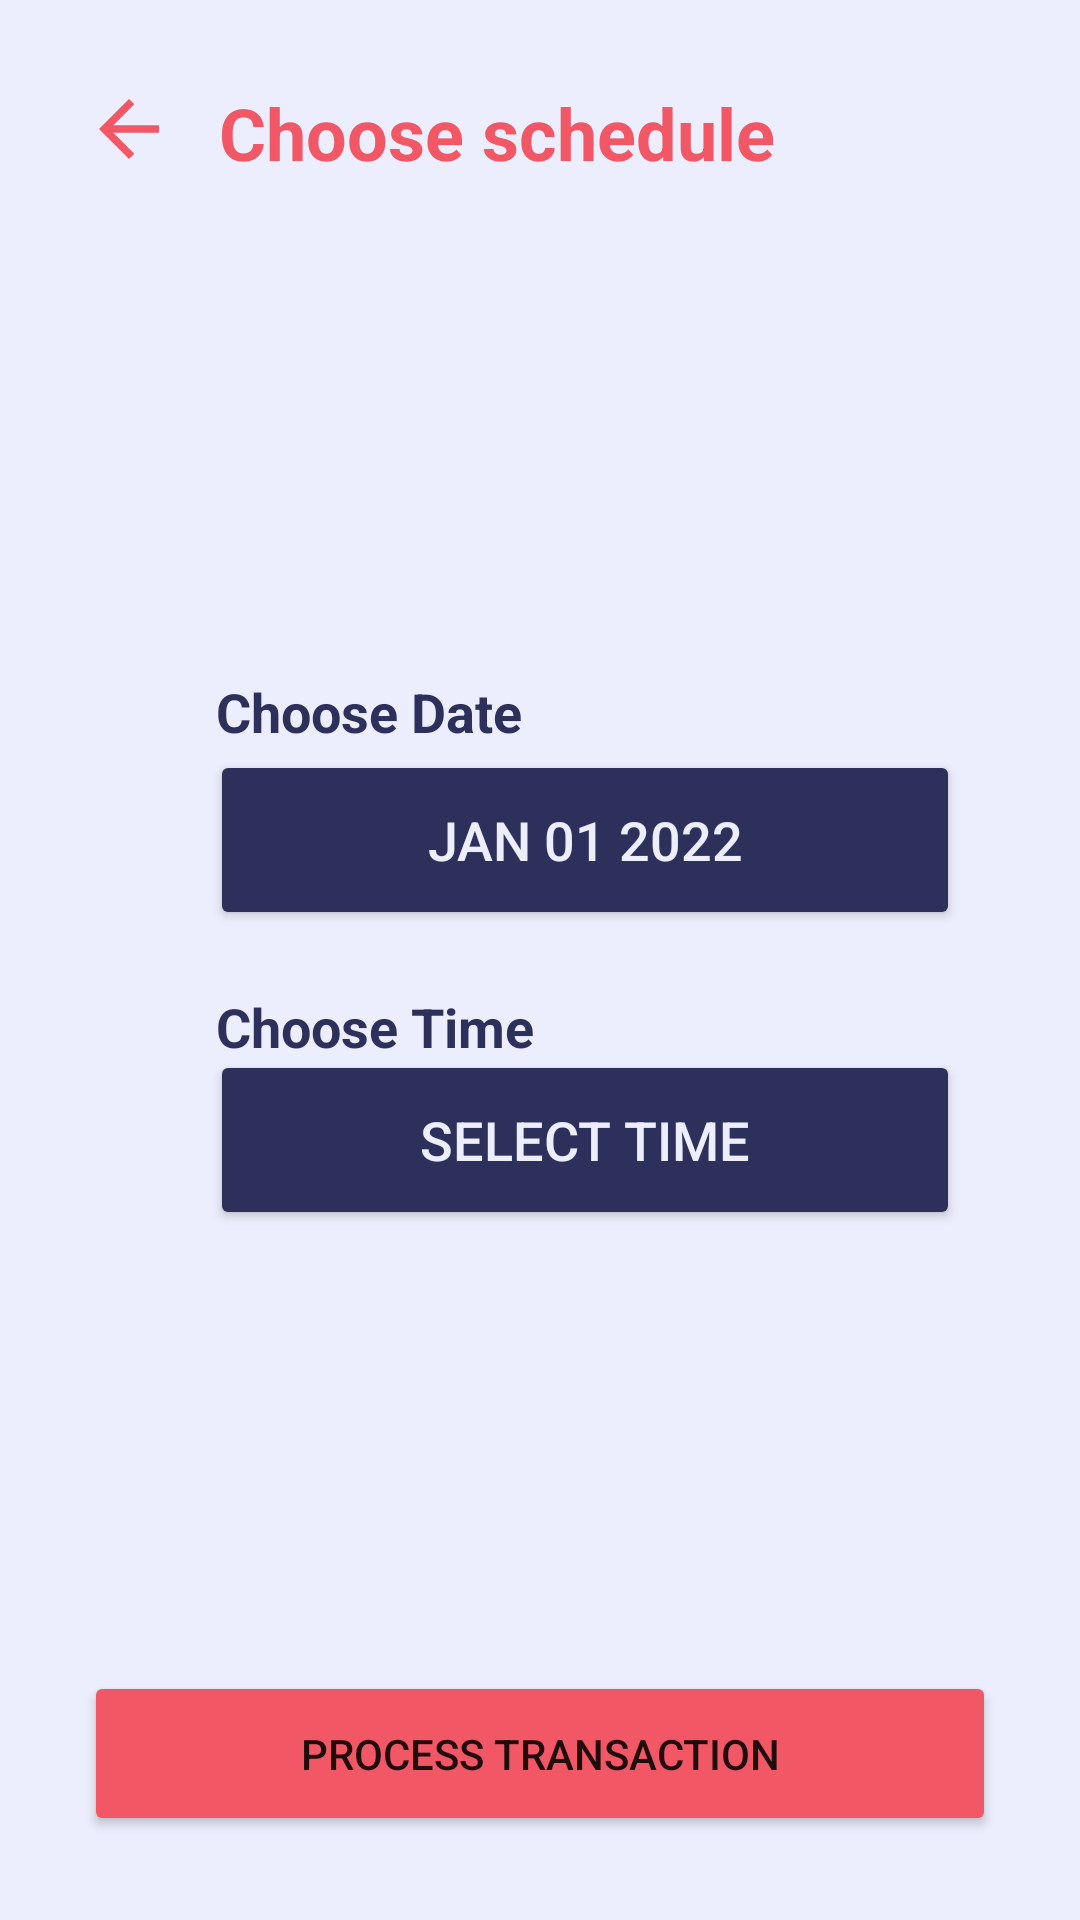

Icons on this 1080px×1920px Android screen, each with its box as (x1, y1, x2, y2):
arrow back: (99, 99, 159, 159)
